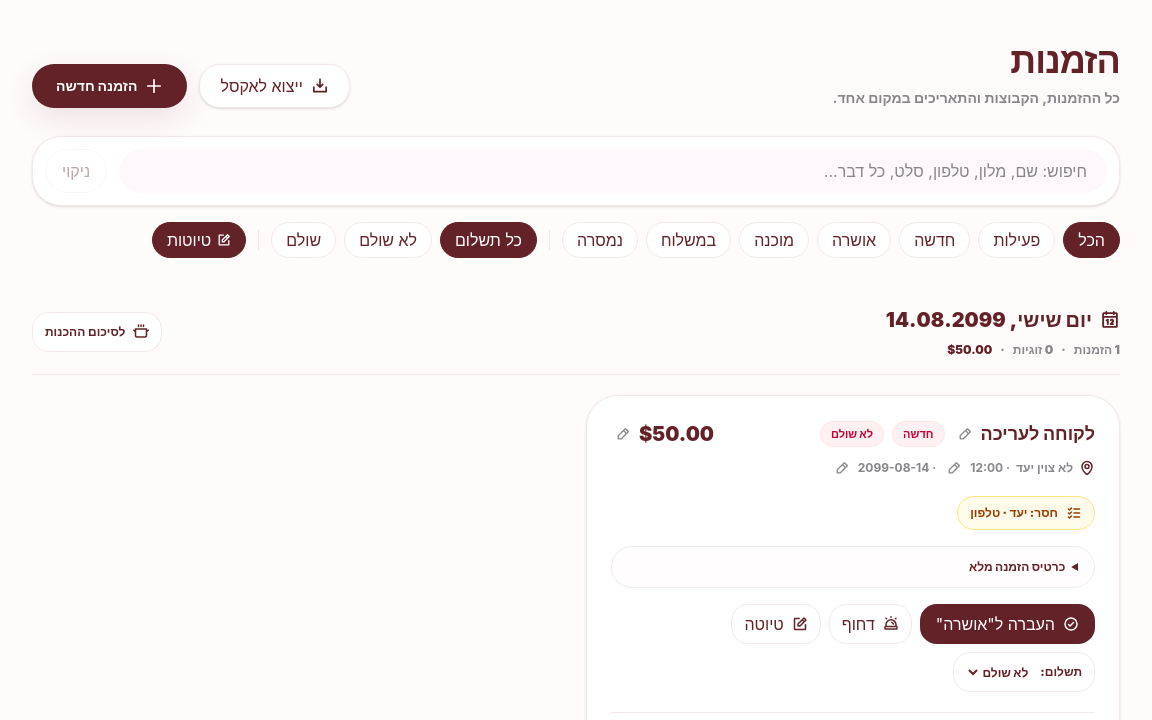
Scenario: OrdersScreen › turns a card value into an in-place input with confirm and cancel controls
The image size is (1152, 720).
Click the button named "עריכת שעה — לקוחה לעריכה". click: (954, 468)
box: [942,456,966,480]
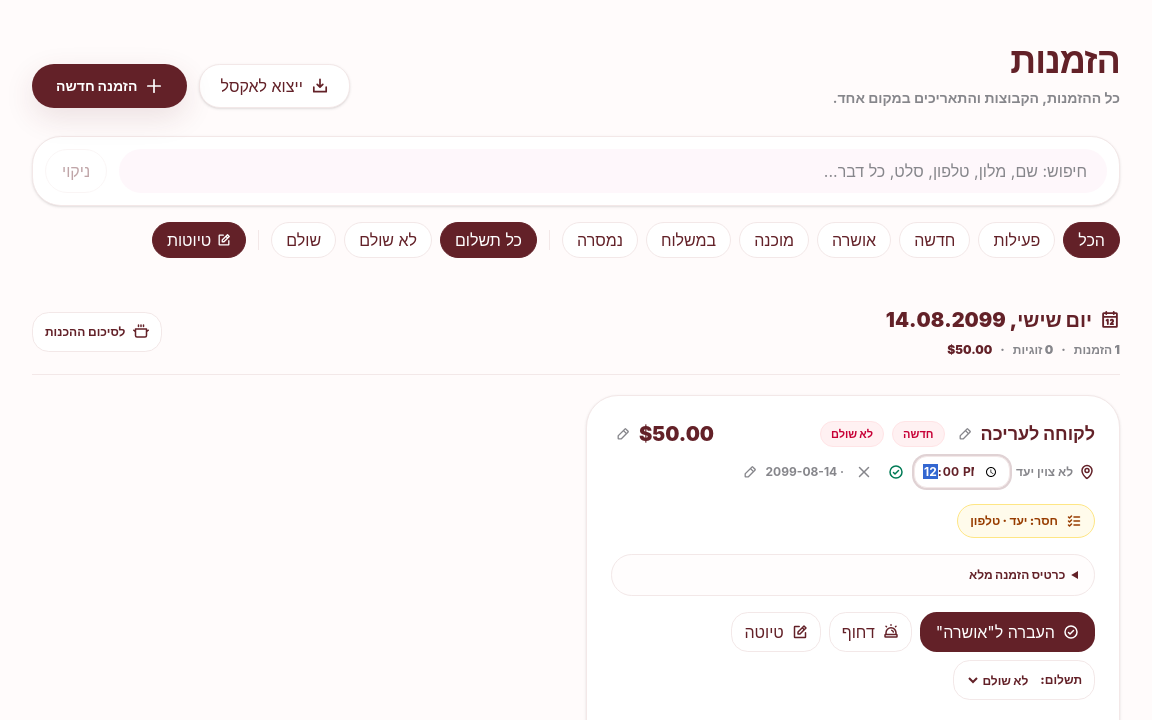
Now the time field named "שעה — לקוחה לעריכה" holds "12:00", box [914,456,1010,488]
Now the button named "אישור שעה — לקוחה לעריכה" is shown, box [882,458,910,486]
Now the button named "ביטול שעה — לקוחה לעריכה" is shown, box [850,458,878,486]
